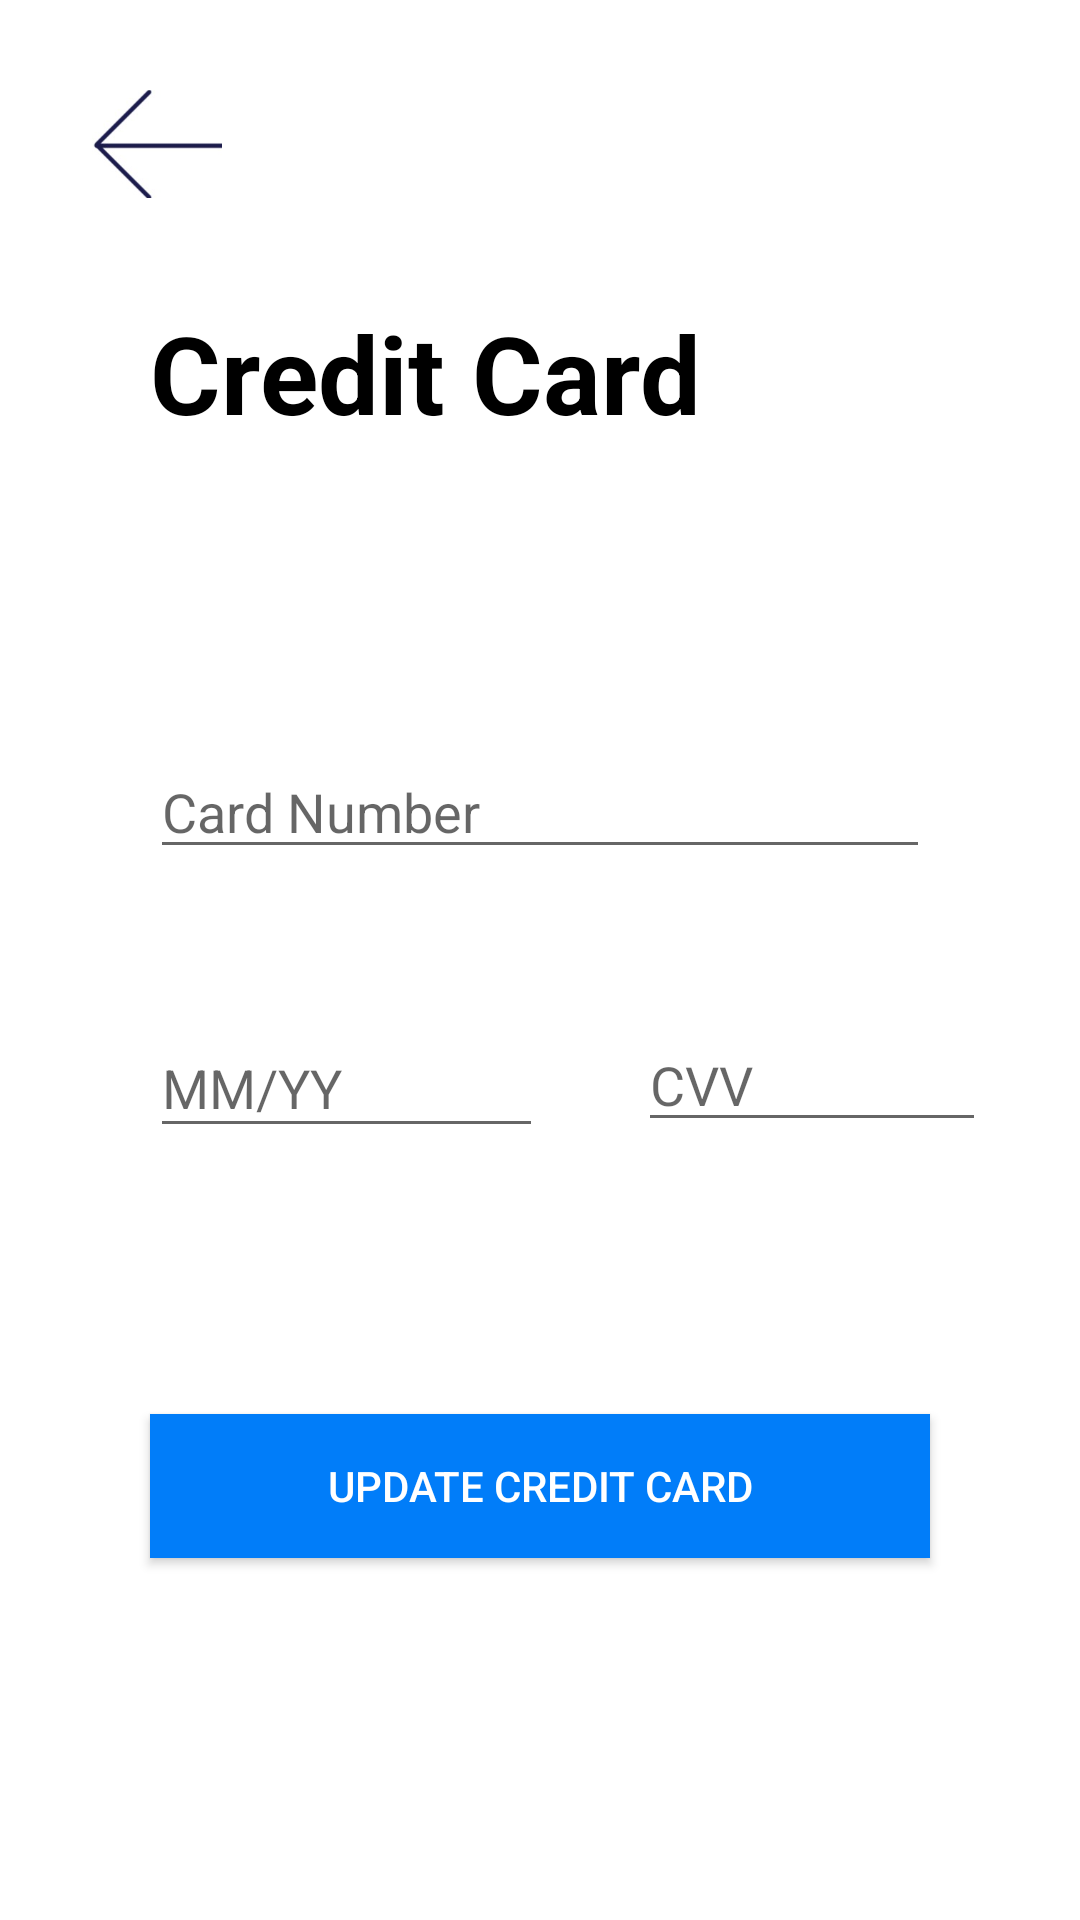

Where icons sit on this 1080 x 1920 app screen, as (x1, y1, x2, y2):
back: (94, 90, 222, 198)
